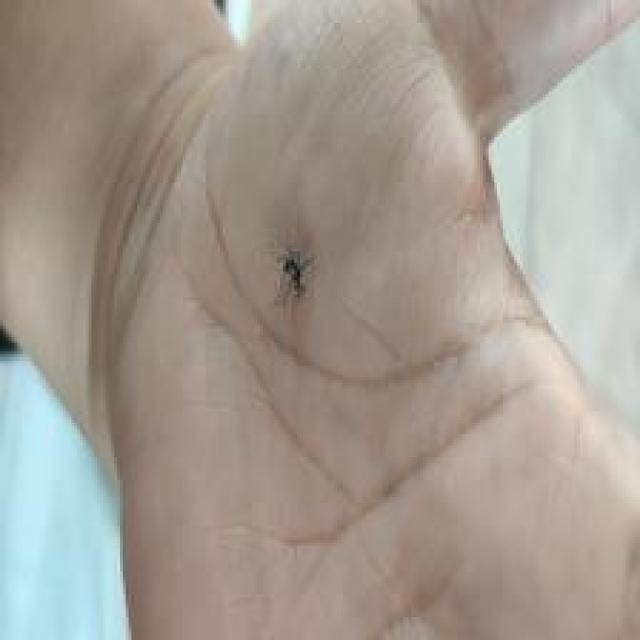Aedes albopictus: (273, 247, 313, 304)
